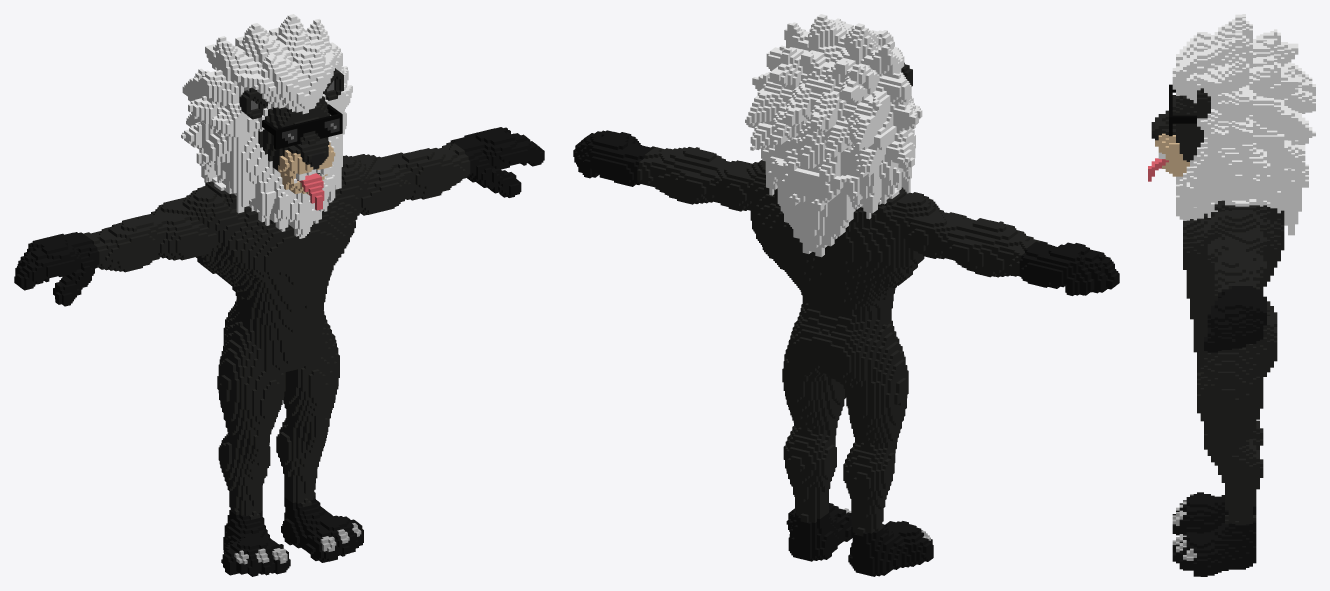
File: 451-DKA2BhLM.glb
The picture shows the model from 3 angles, left to right: view 1: azimuth 30°, elevation 25°; view 2: azimuth 150°, elevation 25°; view 3: azimuth 270°, elevation 25°; orthographic projection. The views are drawn at different scales.
Visible parts, largest first — view 1: tongue_out; view 2: tongue_out; view 3: tongue_out.
Part boxes in pixels (x1,y1,x2,y2): tongue_out: (14,14,544,576); tongue_out: (573,14,1119,576); tongue_out: (1148,14,1315,576).
Size of the model in its own units: 17.2 by 16.5 by 4.8.
Materials: 4 (4 with a texture image).
